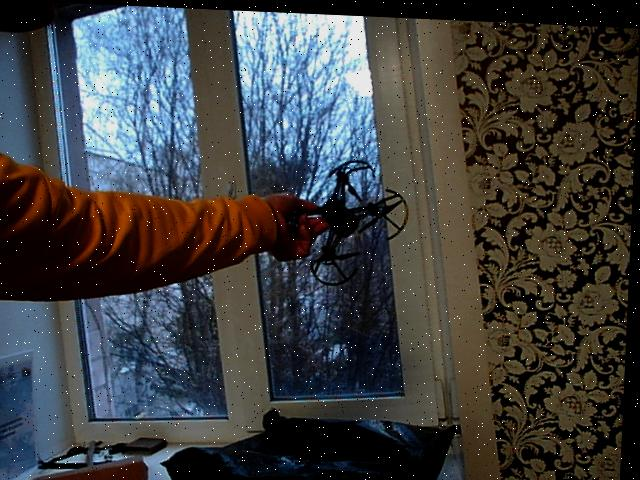drone: (280, 148, 420, 291)
